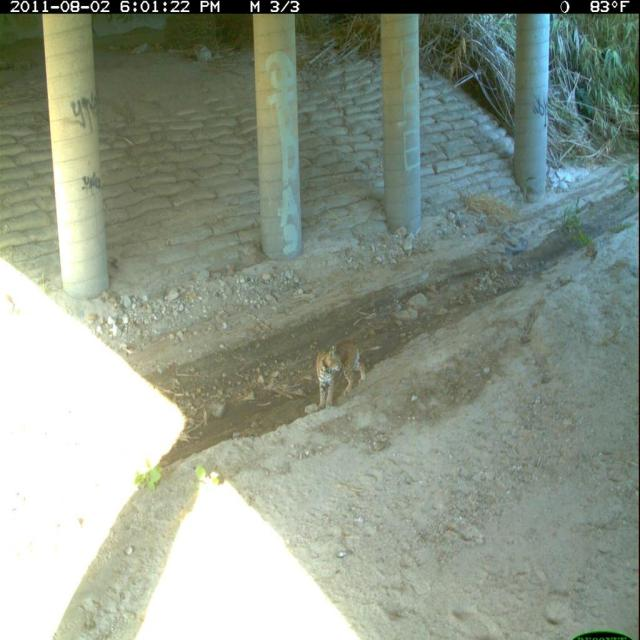bobcat: (314, 335, 370, 414)
